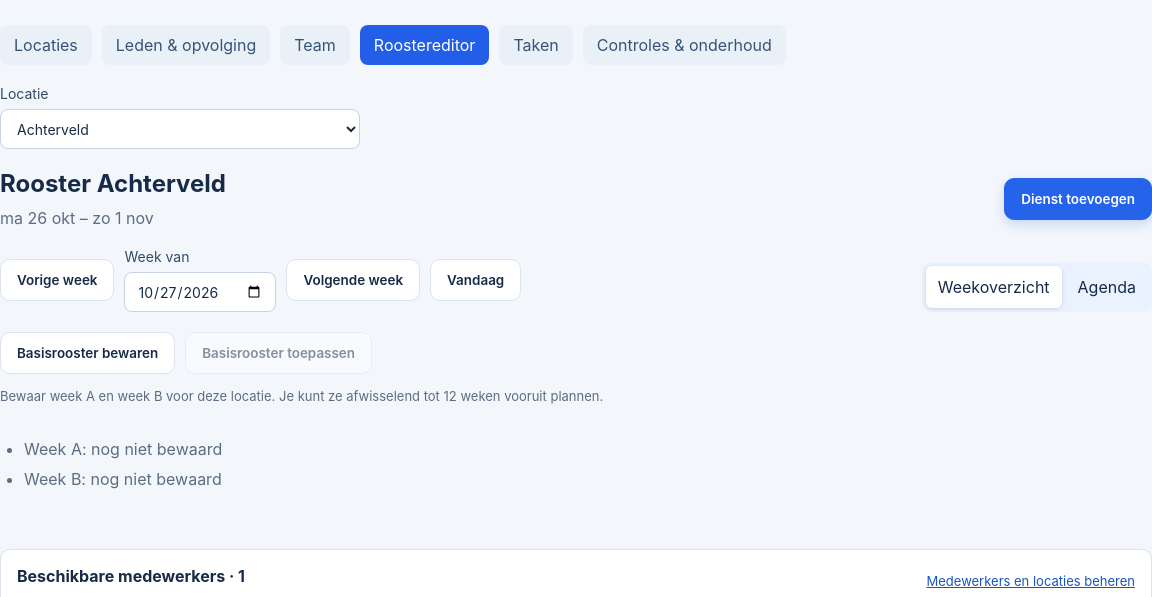
wist de medewerker als de dienst naar een niet-gekoppelde locatie wordt gewijzigd
In the date field labelled "Week van": (200, 292) [124,272,276,312], type "2026-11-02"
(page scrolled)
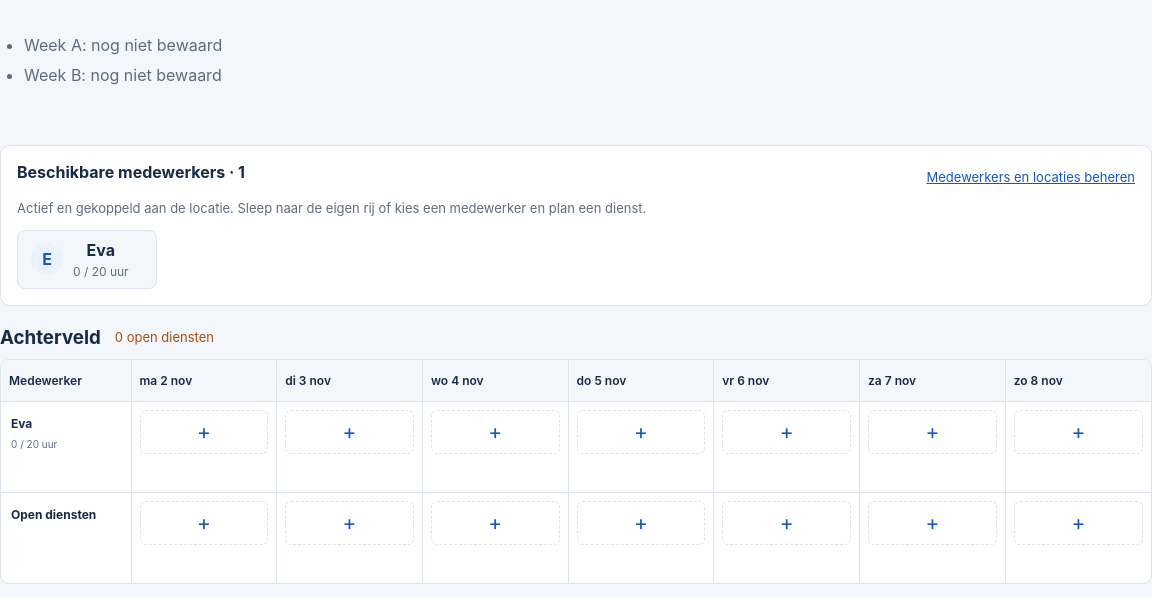
Click the button with aria-label "Eva selecteren voor een dienst": (87, 259) [17,230,157,289]
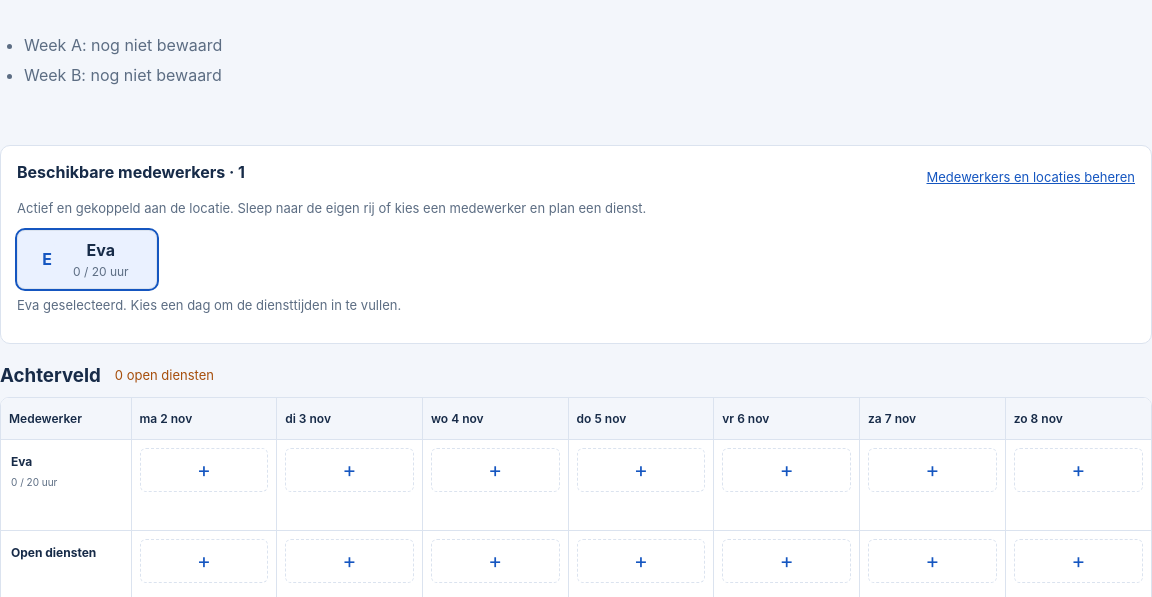
Click the button named "Dienst plannen voor Achterveld op 2026-11-02 met Eva": (204, 470) [140,448,268,492]
(page scrolled)
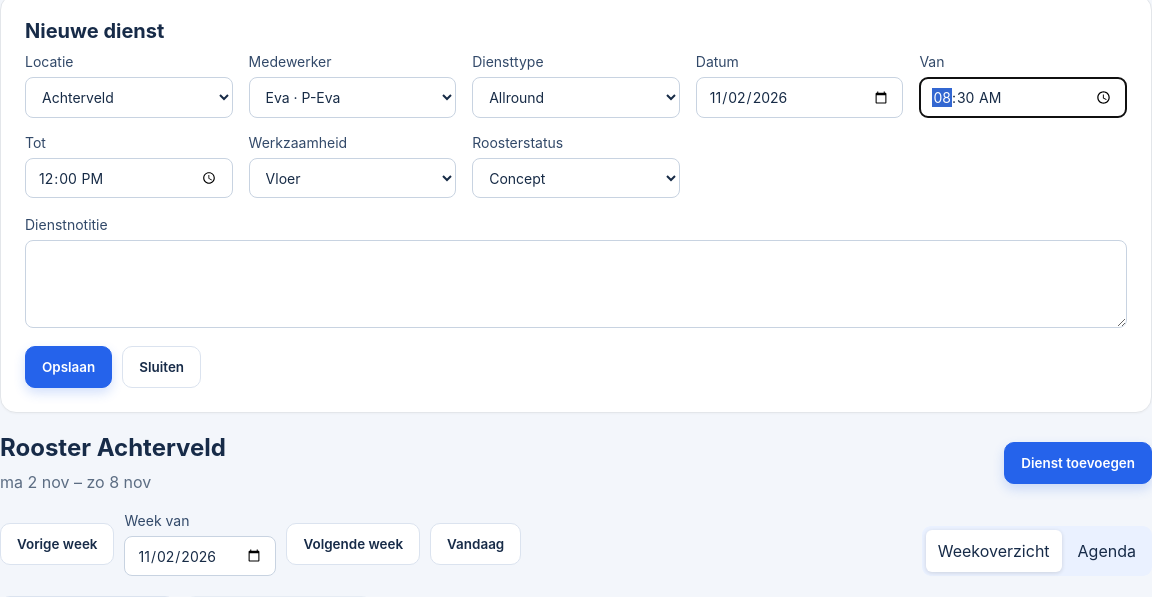
Select "Barneveld" in the dropdown labelled "Locatie" below "Diensttype": (129, 98) [25,77,233,118]
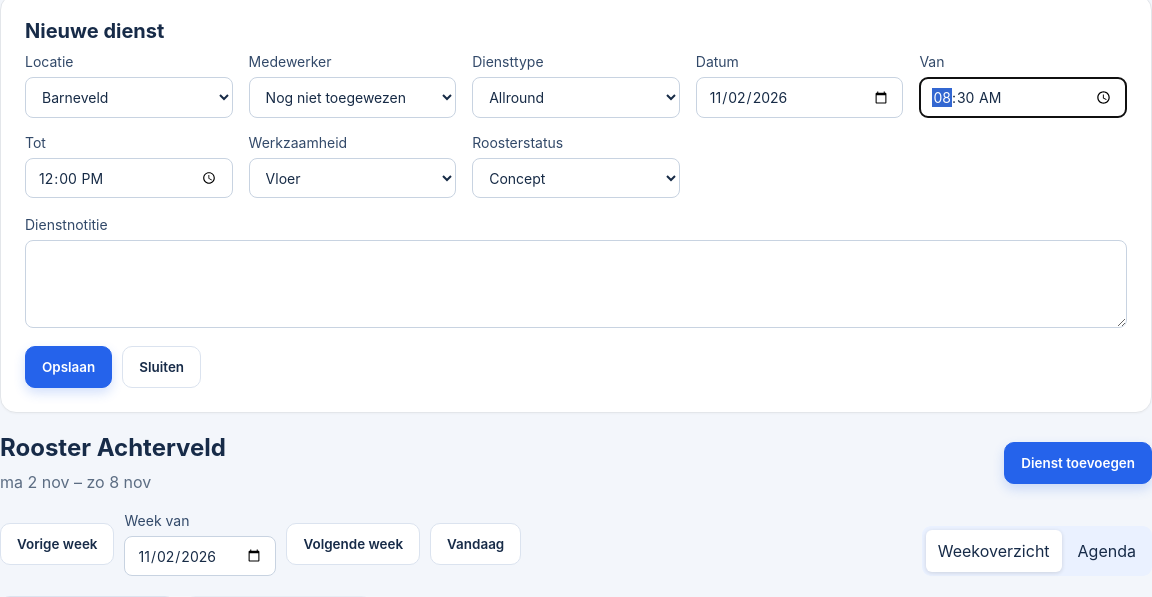
Expected: the option "Eva" is not shown
Now the dropdown labelled "Medewerker" shows "Nog niet toegewezen", box [249,77,456,118]
